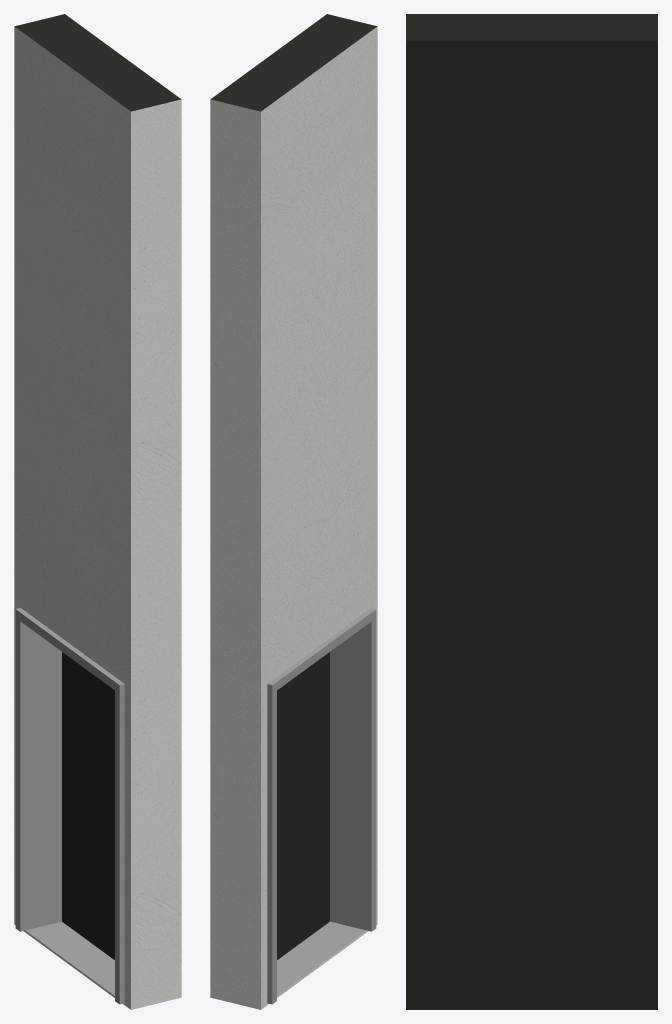
The model's file is VPS_Studio_Doorway.fbx.
3 renders of one model, left to right at view 1: azimuth 30°, elevation 25°; view 2: azimuth 150°, elevation 25°; view 3: azimuth 270°, elevation 25°, orthographic. The views are drawn at different scales.
Parts seen in each view (by area): view 1: VPS_Studio_Doorway; view 2: VPS_Studio_Doorway; view 3: VPS_Studio_Doorway.
Boxes of the visible parts, left/top/right/bottom form: VPS_Studio_Doorway: left=14, top=14, right=181, bottom=1009; VPS_Studio_Doorway: left=210, top=14, right=377, bottom=1009; VPS_Studio_Doorway: left=406, top=14, right=657, bottom=1009.
Bounding box in the file's own units: 0.5512 × 8.5 × 2.
Materials: 3 (1 with a texture image).
